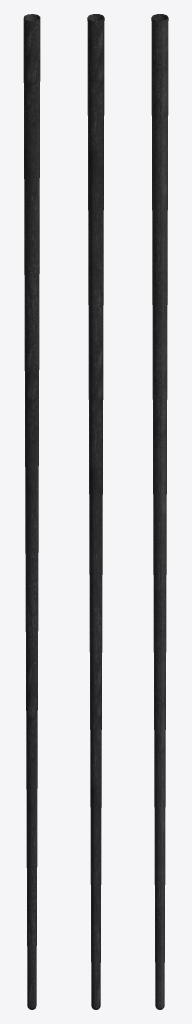
The model's file is wm_rivendell_spear_a01_silver_handle.fbx.
The picture shows the model from 3 angles, left to right: view 1: azimuth 90°, elevation 25°; view 2: azimuth 150°, elevation 25°; view 3: azimuth 330°, elevation 25°; orthographic projection.
Parts seen in each view (by area): view 1: wm_rivendell_spear_a01_silver_handle; view 2: wm_rivendell_spear_a01_silver_handle; view 3: wm_rivendell_spear_a01_silver_handle.
Boxes of the visible parts, x1,y1,x2,y2 form: wm_rivendell_spear_a01_silver_handle: [23, 14, 40, 1009]; wm_rivendell_spear_a01_silver_handle: [87, 14, 104, 1009]; wm_rivendell_spear_a01_silver_handle: [151, 14, 168, 1009].
Size of the model in its own units: 0.0323 by 0.0321 by 2.09.
1 material, 1 textured.
